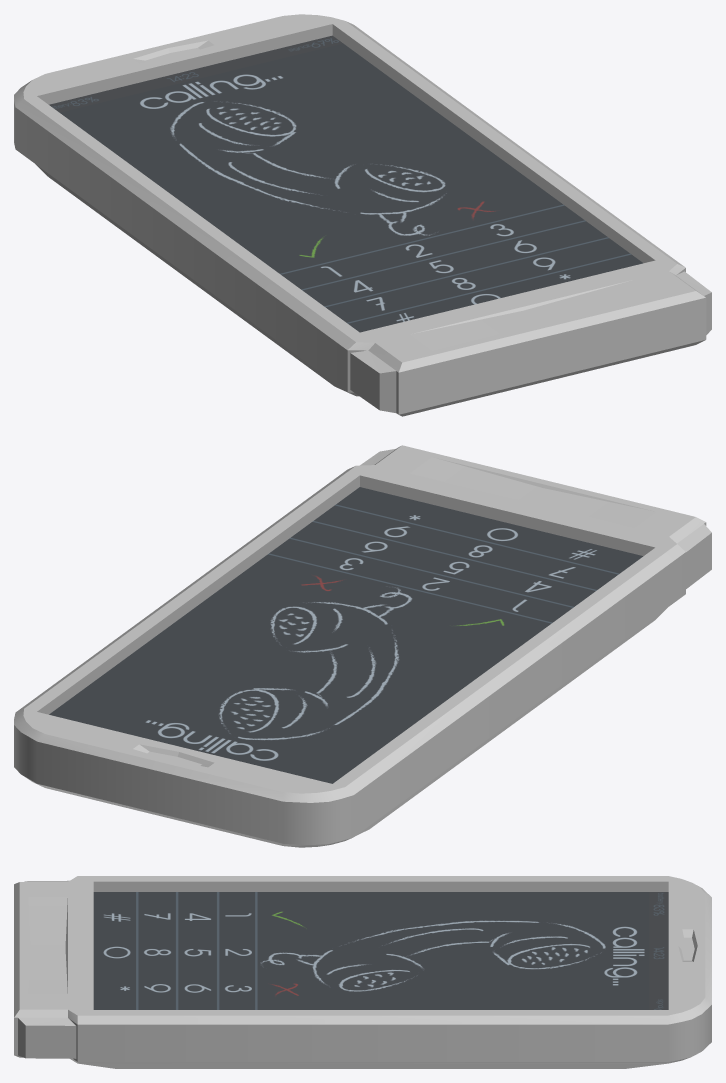
Rendered from celular.fbx.
3 views of the same model, one above another, from view 1: azimuth 30°, elevation 25°; view 2: azimuth 150°, elevation 25°; view 3: azimuth 270°, elevation 25° (orthographic). The views are drawn at different scales.
Parts seen in each view (by area): view 1: glass, Screen, phone; view 2: glass, Screen, phone; view 3: glass, Screen, phone.
Part boxes in pixels (box(x1,y1,x2,y2)): glass: box(37, 24, 654, 332); Screen: box(49, 35, 642, 332); phone: box(14, 14, 711, 416); glass: box(37, 475, 654, 783); Screen: box(49, 487, 642, 783); phone: box(14, 445, 711, 847); glass: box(94, 882, 668, 1009); Screen: box(93, 892, 668, 1009); phone: box(14, 876, 711, 1068).
Bounding box in the file's own units: 2.95 × 0.5001 × 5.92.
